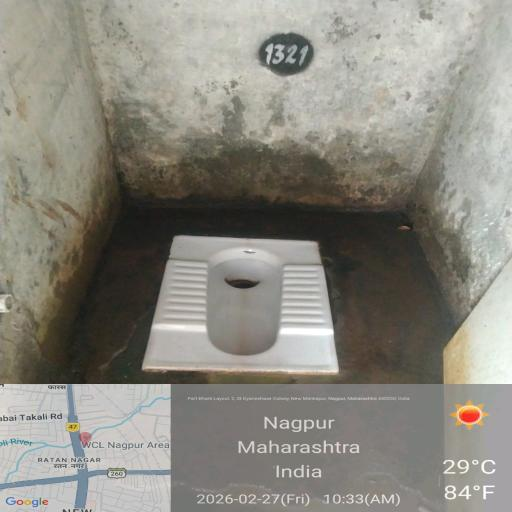partial_dirty_floor: (70, 88, 456, 213), (0, 200, 109, 380), (398, 204, 511, 327)
partial_dirty_indian: (152, 245, 340, 379)
